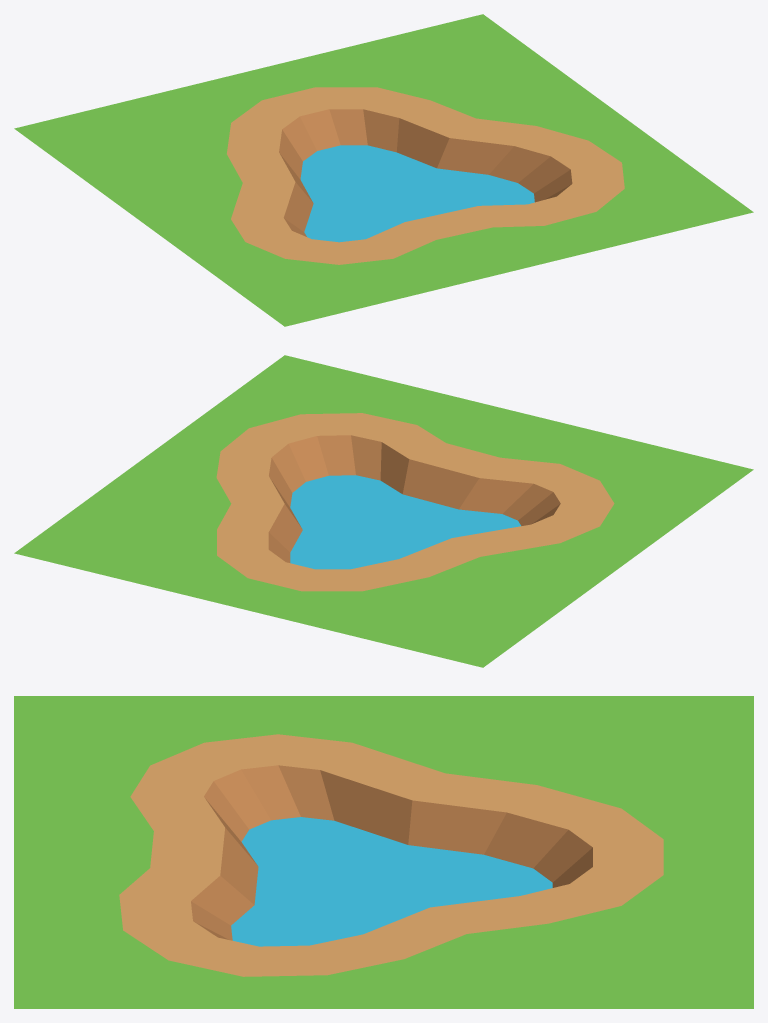
File: pond.glb
The picture shows the model from 3 angles, top to bottom: view 1: azimuth 30°, elevation 25°; view 2: azimuth 150°, elevation 25°; view 3: azimuth 270°, elevation 25°; orthographic projection. The views are drawn at different scales.
Visible parts, largest first — view 1: ground_riverTile; view 2: ground_riverTile; view 3: ground_riverTile.
Boxes of the visible parts, box(x1,y1,x2,y2) form: ground_riverTile: box(14, 14, 753, 326); ground_riverTile: box(14, 355, 753, 667); ground_riverTile: box(14, 696, 753, 1008).
Bounding box in the file's own units: 4 × 0.2002 × 4.
